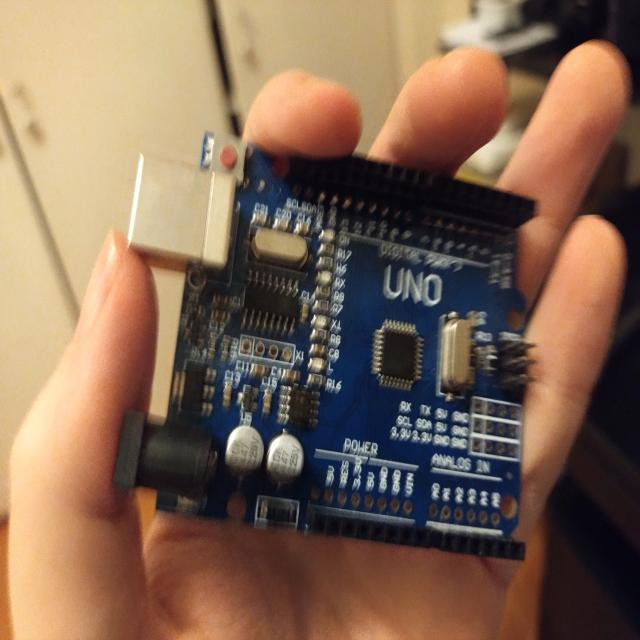arduino: (129, 126, 533, 563)
